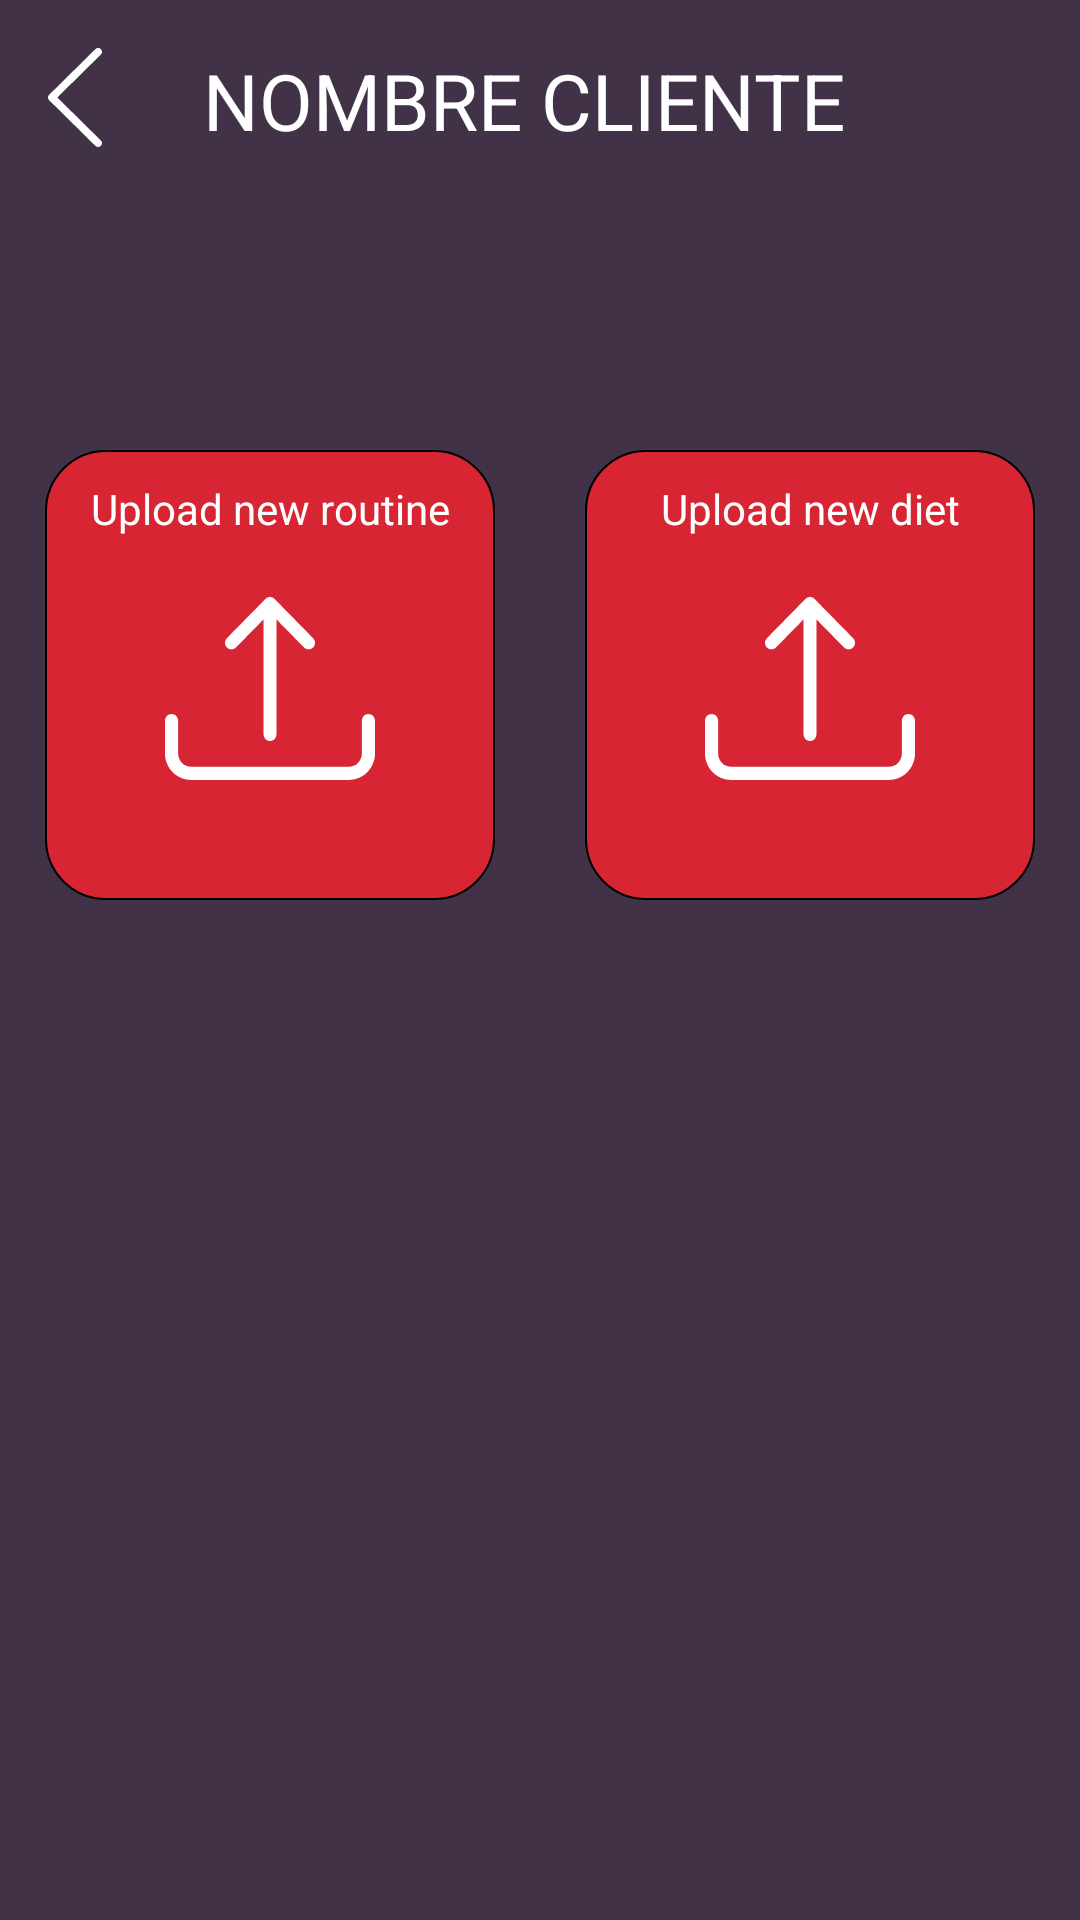

Locate icon controls on the screen. Image size 1080x1920, boxes as (x1, y1, x2, y2).
back: (48, 48, 102, 147)
